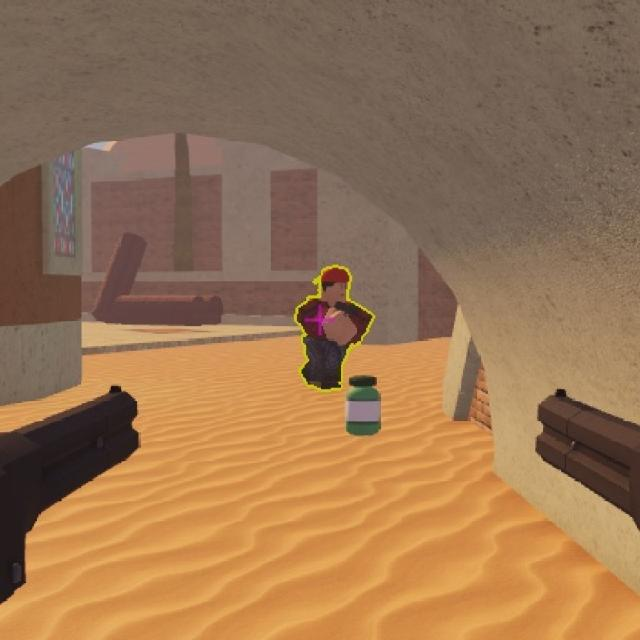player: (293, 264, 354, 384)
